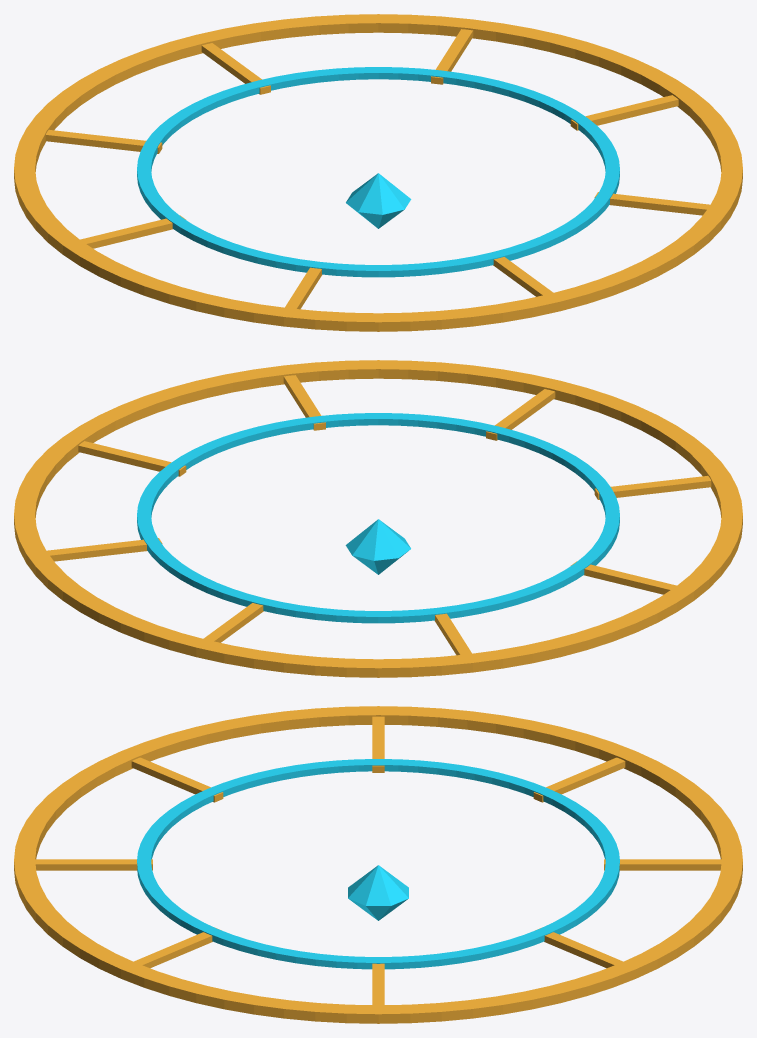
File: vmt_phase_a_roof_oculus.obj
3 renders of one model, top to bottom at view 1: azimuth 30°, elevation 25°; view 2: azimuth 150°, elevation 25°; view 3: azimuth 270°, elevation 25°, orthographic.
Parts seen in each view (by area): view 1: VMT_PhaseA_RoofOculus; view 2: VMT_PhaseA_RoofOculus; view 3: VMT_PhaseA_RoofOculus.
Boxes of the visible parts, x1,y1,x2,y2 form: VMT_PhaseA_RoofOculus: (14, 14, 742, 331); VMT_PhaseA_RoofOculus: (14, 360, 742, 677); VMT_PhaseA_RoofOculus: (14, 706, 742, 1023).
Bounding box in the file's own units: 16.48 × 1.52 × 16.48.
